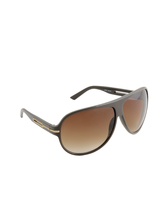glasses: (16, 83, 154, 157)
